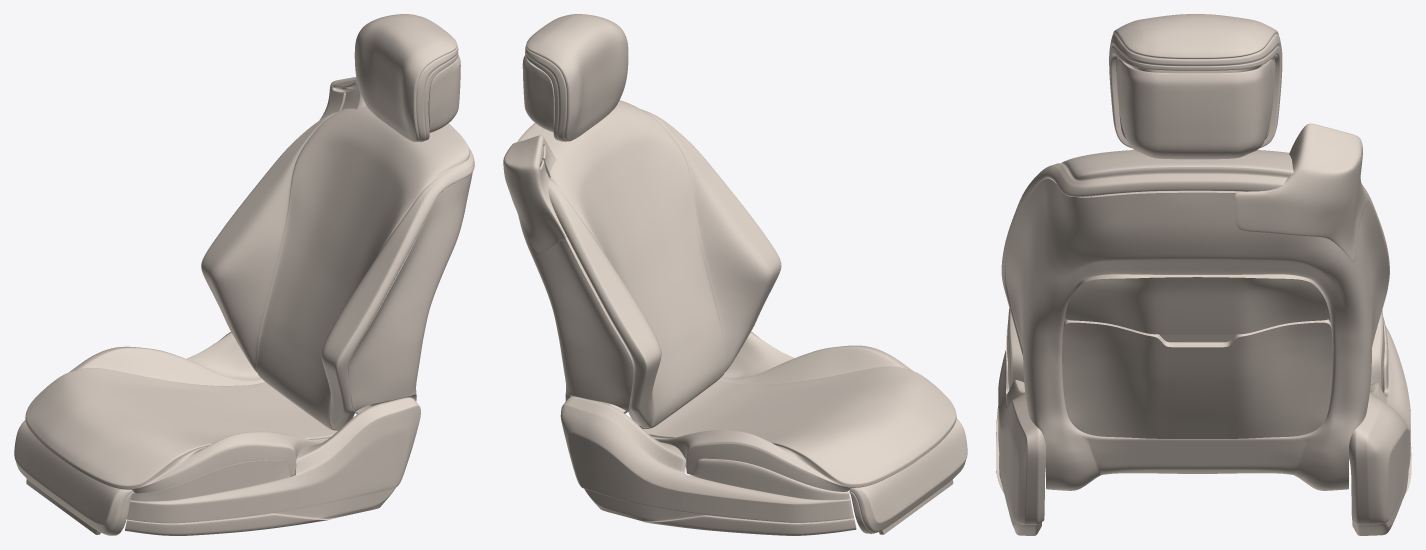
File: Frontsitz_BFS_25.fbx
3 renders of one model, left to right at view 1: azimuth 30°, elevation 25°; view 2: azimuth 150°, elevation 25°; view 3: azimuth 270°, elevation 25°, orthographic. The views are drawn at different scales.
Parts seen in each view (by area): view 1: Frontsitze; view 2: Frontsitze; view 3: Frontsitze.
Boxes of the visible parts, bbox=[...] form: Frontsitze: bbox=[14, 14, 474, 535]; Frontsitze: bbox=[503, 14, 967, 535]; Frontsitze: bbox=[996, 14, 1411, 535].
Size of the model in its own units: 93.45 by 94.64 by 61.51.
